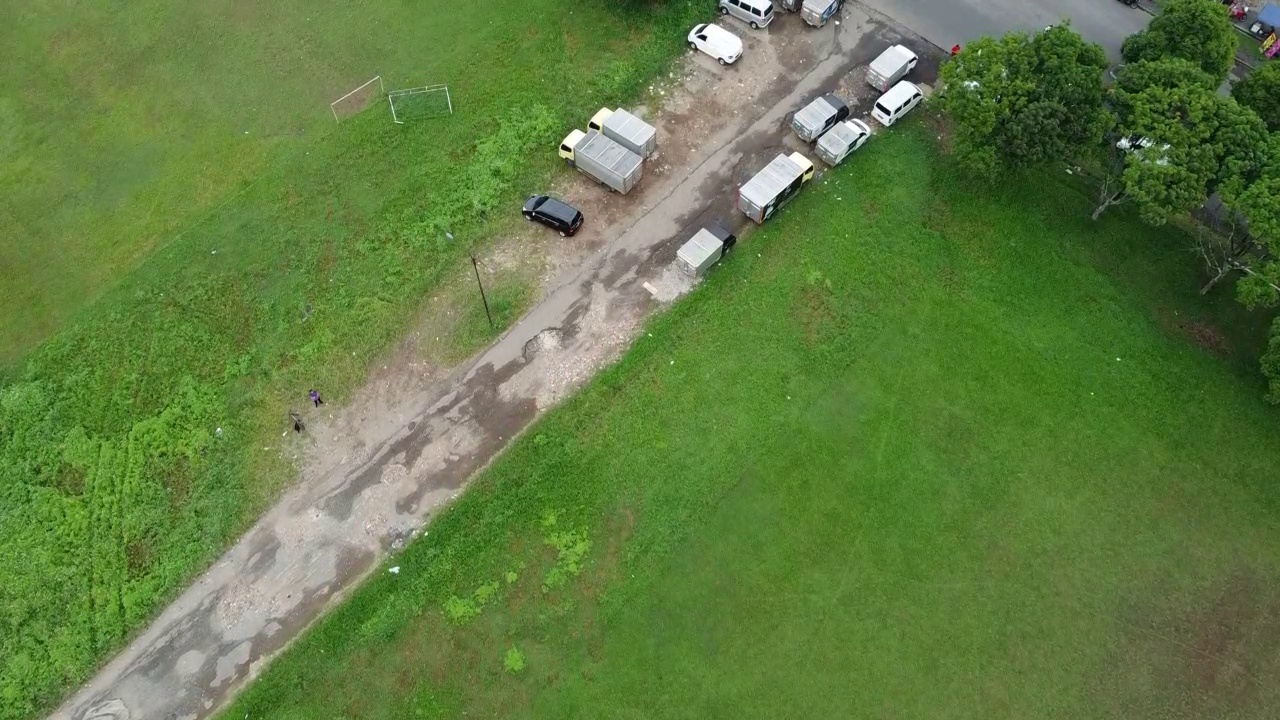mobil: (675, 20, 751, 75), (518, 192, 591, 244), (864, 77, 929, 124), (706, 1, 780, 34)
